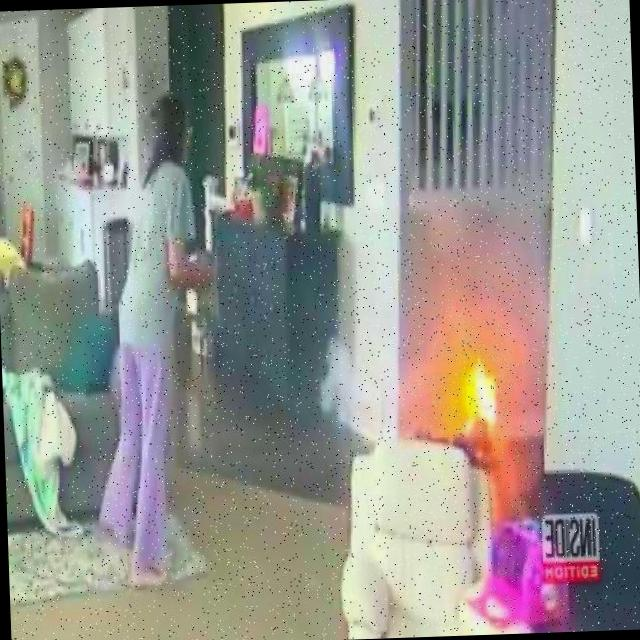fire: (424, 341, 538, 474)
